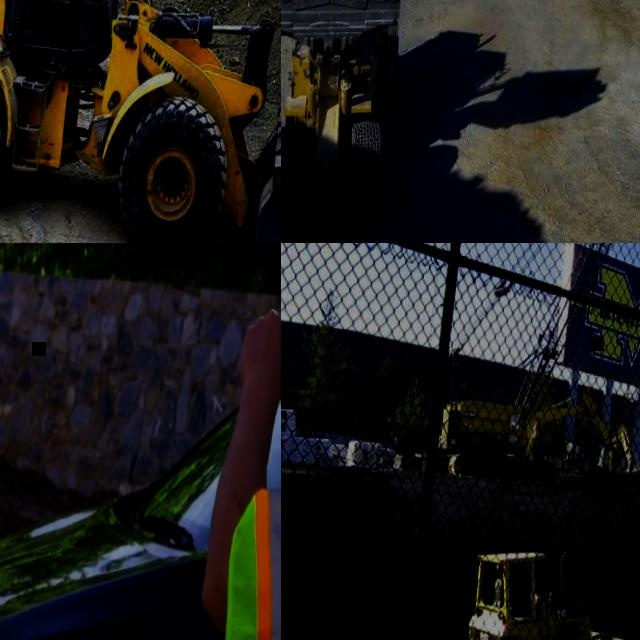Person: (176, 243, 281, 640)
machinery: (0, 0, 281, 243), (281, 0, 417, 243), (440, 372, 640, 494), (458, 542, 640, 640)
vehicle: (0, 266, 281, 640)
